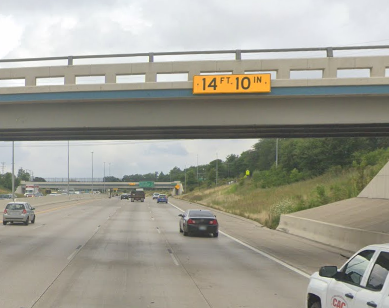0: (239, 76, 252, 91)
1: (198, 75, 207, 93), (233, 75, 241, 92)
4: (206, 75, 219, 94)
overheadsign: (192, 73, 271, 94)
